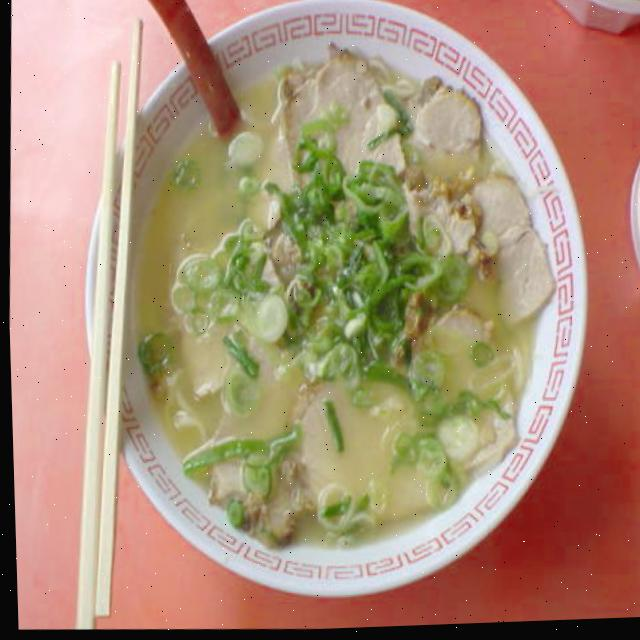面条主食: (54, 0, 591, 618)
